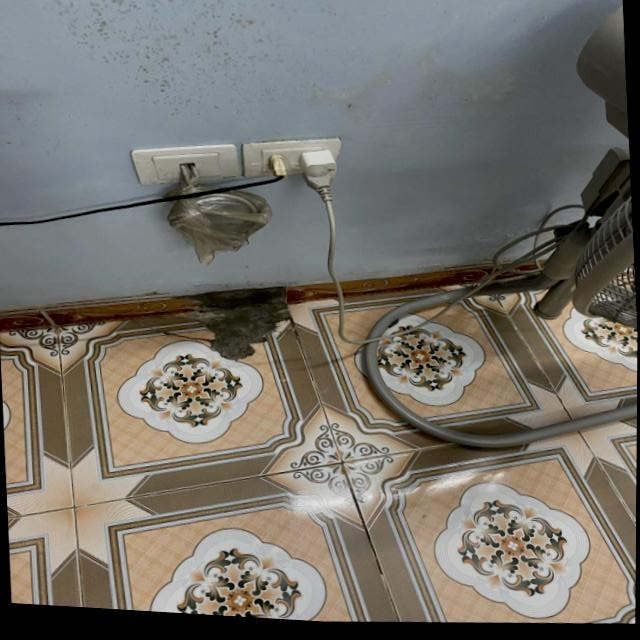outlet: (130, 137, 241, 192), (241, 131, 343, 184)
